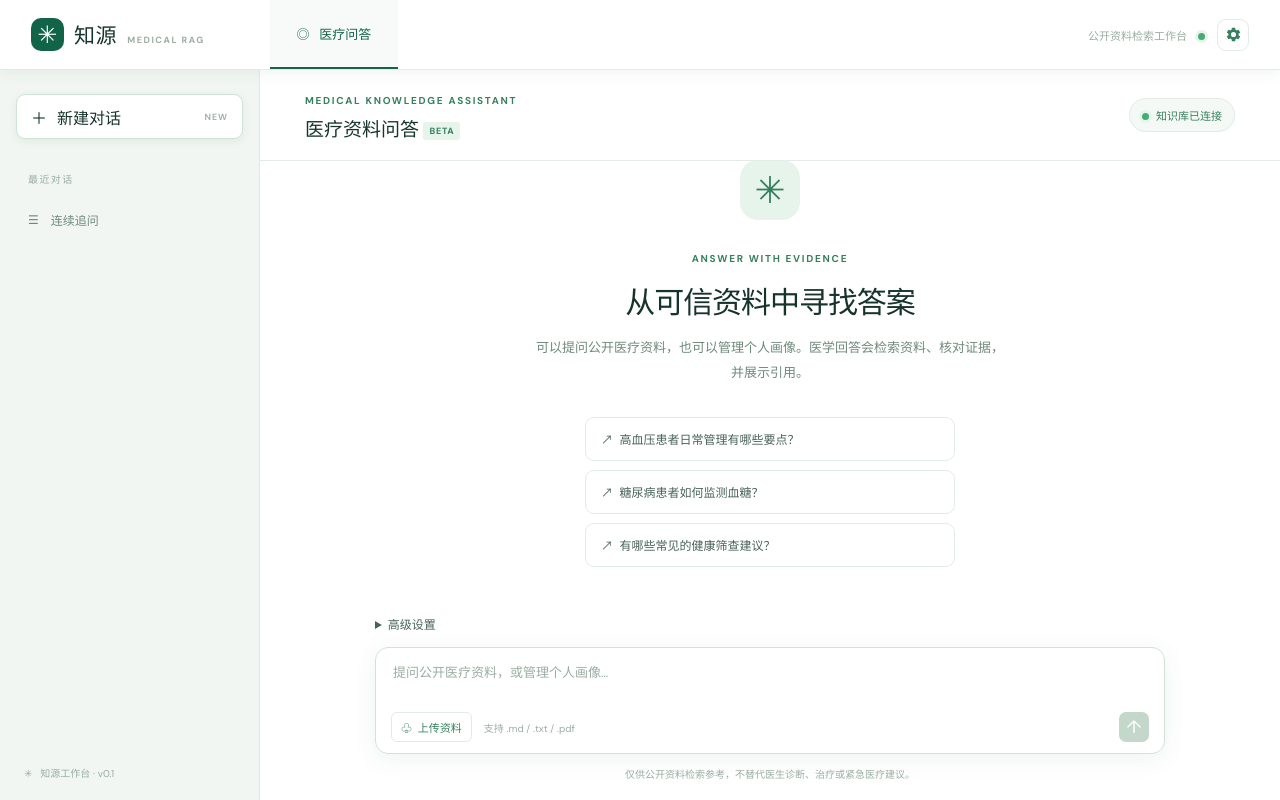
keeps the clarification badge when a stored conversation is reopened
Step 1. Click the button "☰ 连续追问" → [130, 220], box x1=16 y1=199 x2=243 y2=241
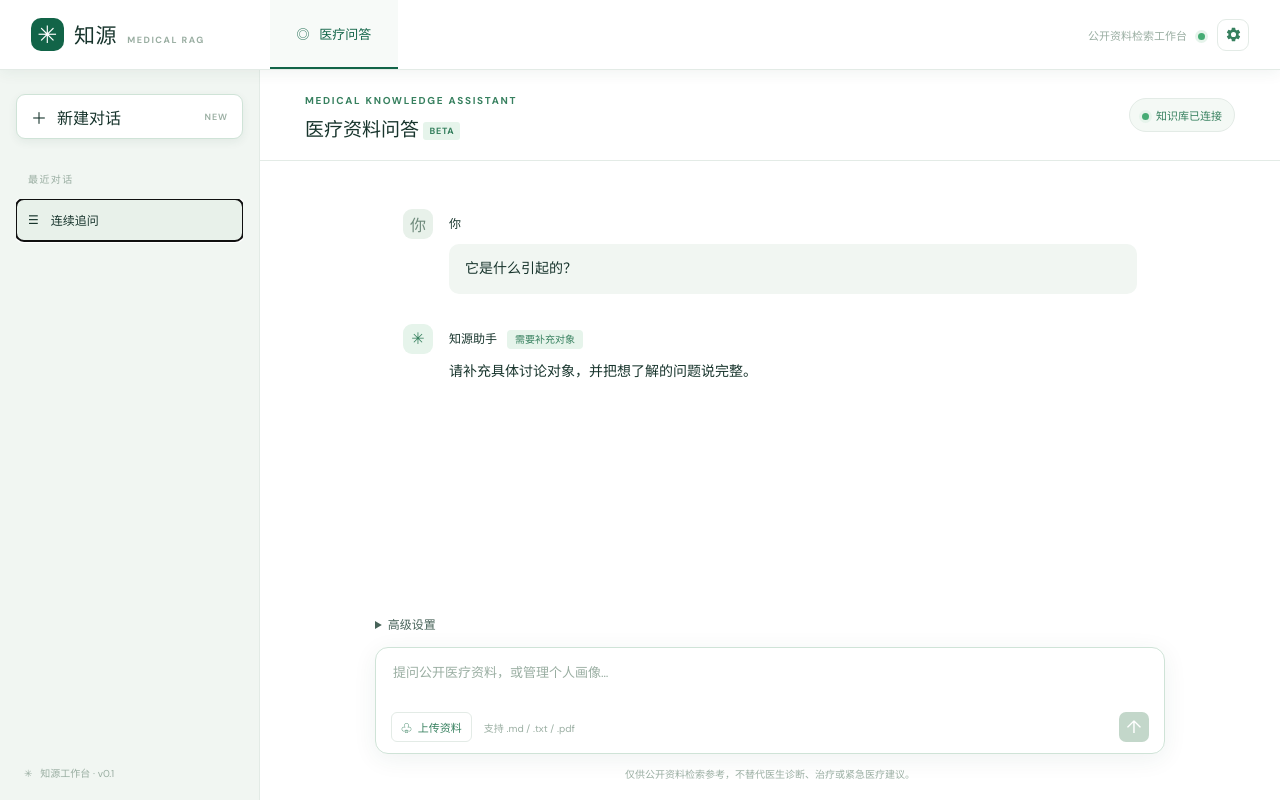
Expected: the text "请补充具体讨论对象，并把想了解的问题说完整。" is shown, x1=449 y1=362 x2=757 y2=380
Expected: the text "需要补充对象" is shown, x1=507 y1=330 x2=583 y2=349
